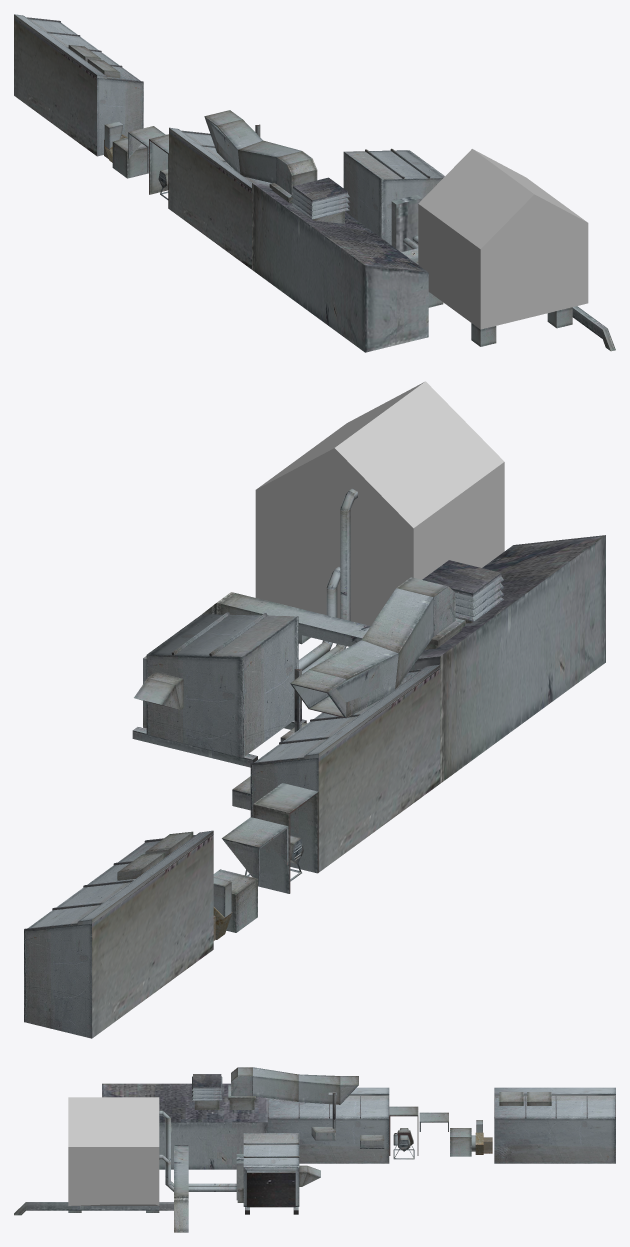
Rendered from Air_system1.fbx.
3 renders of one model, top to bottom at view 1: azimuth 30°, elevation 25°; view 2: azimuth 150°, elevation 25°; view 3: azimuth 270°, elevation 25°, orthographic. The views are drawn at different scales.
Parts seen in each view (by area): view 1: Air_system1; view 2: Air_system1; view 3: Air_system1.
Boxes of the visible parts, box(x1,y1,x2,y2) form: Air_system1: box(14, 14, 615, 352); Air_system1: box(24, 381, 605, 1038); Air_system1: box(14, 1067, 615, 1232).
Size of the model in its own units: 736 by 410 by 2190.
